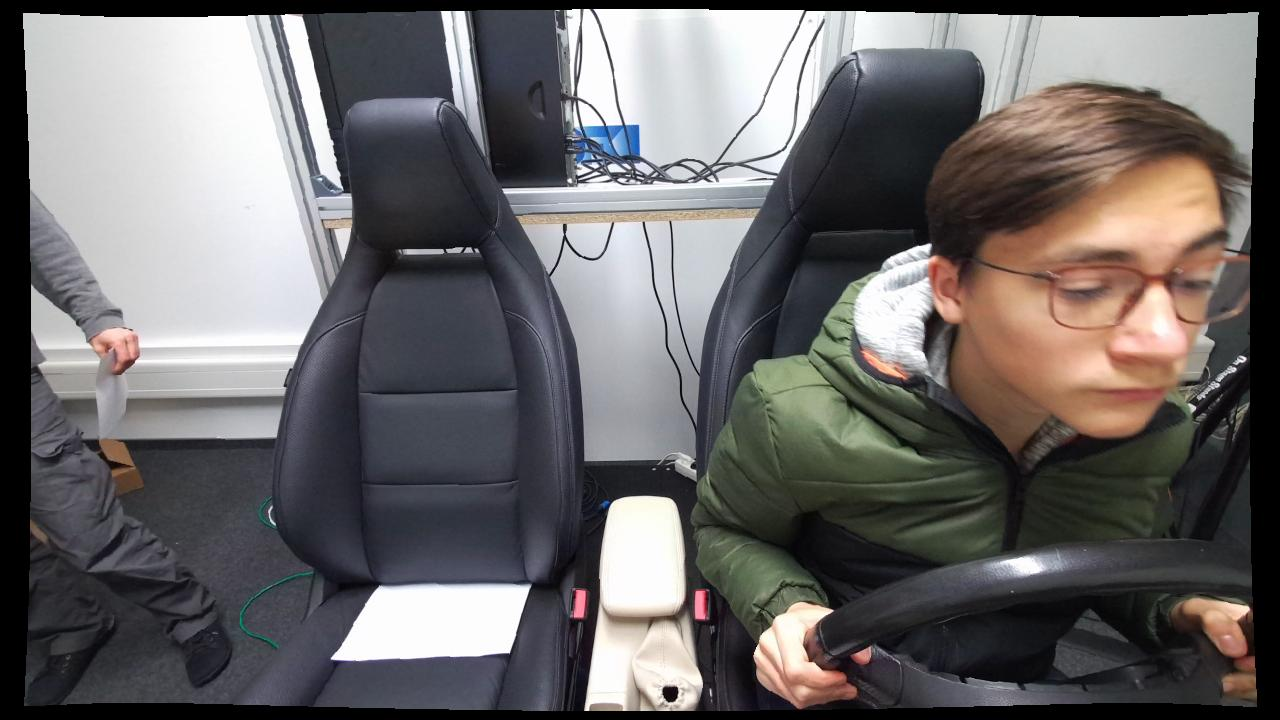Distracted: (694, 84, 1245, 711)
